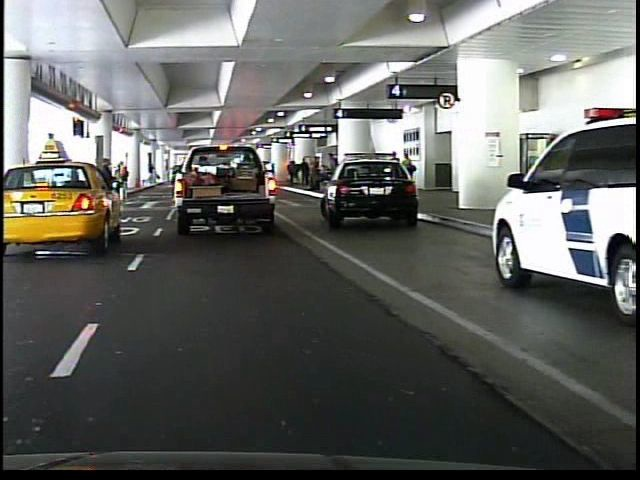person: (92, 155, 116, 223), (166, 150, 188, 203)
